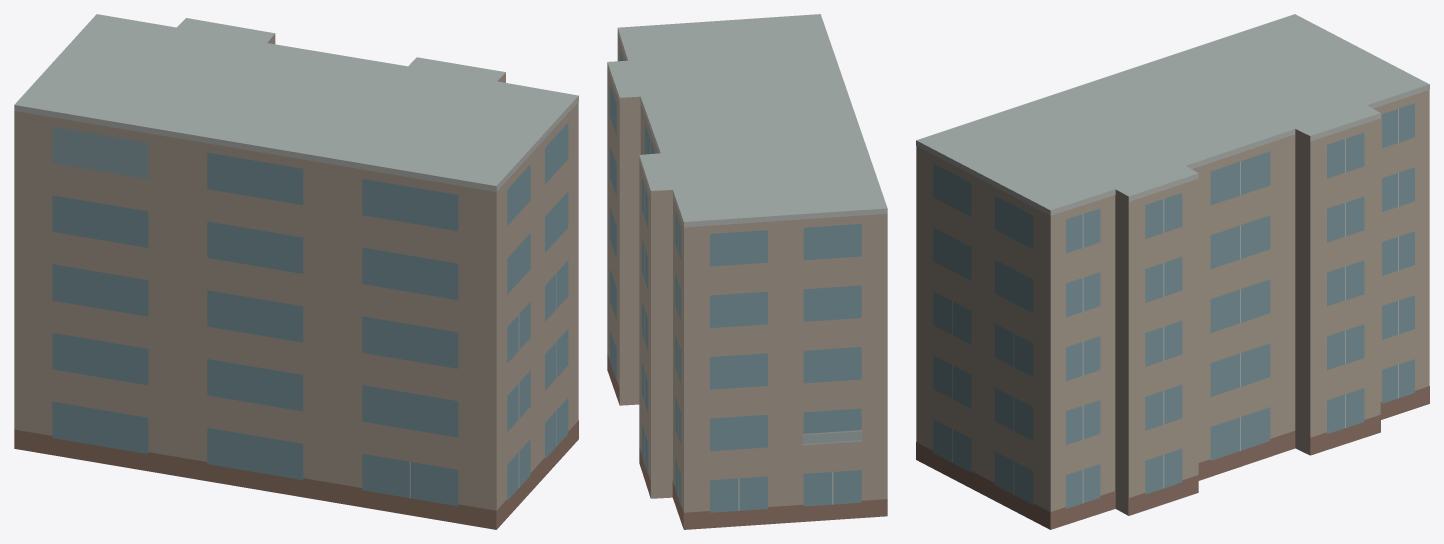
File: survey-upis-32673065.glb
3 views of the same model, side by side, from view 1: azimuth 30°, elevation 25°; view 2: azimuth 150°, elevation 25°; view 3: azimuth 270°, elevation 25° (orthographic). The views are drawn at different scales.
Parts seen in each view (by area): view 1: survey-upis-32673065.tmp; view 2: survey-upis-32673065.tmp; view 3: survey-upis-32673065.tmp.
Boxes of the visible parts, bbox=[...] form: survey-upis-32673065.tmp: bbox=[14, 14, 578, 529]; survey-upis-32673065.tmp: bbox=[607, 14, 887, 529]; survey-upis-32673065.tmp: bbox=[916, 14, 1429, 529].
Bounding box in the file's own units: 18.73 × 14.2 × 20.7.
